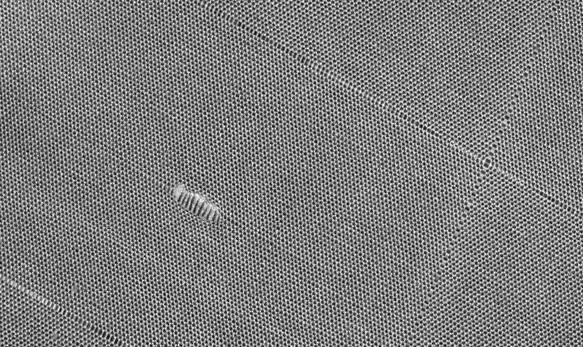slub: (167, 179, 232, 236)
